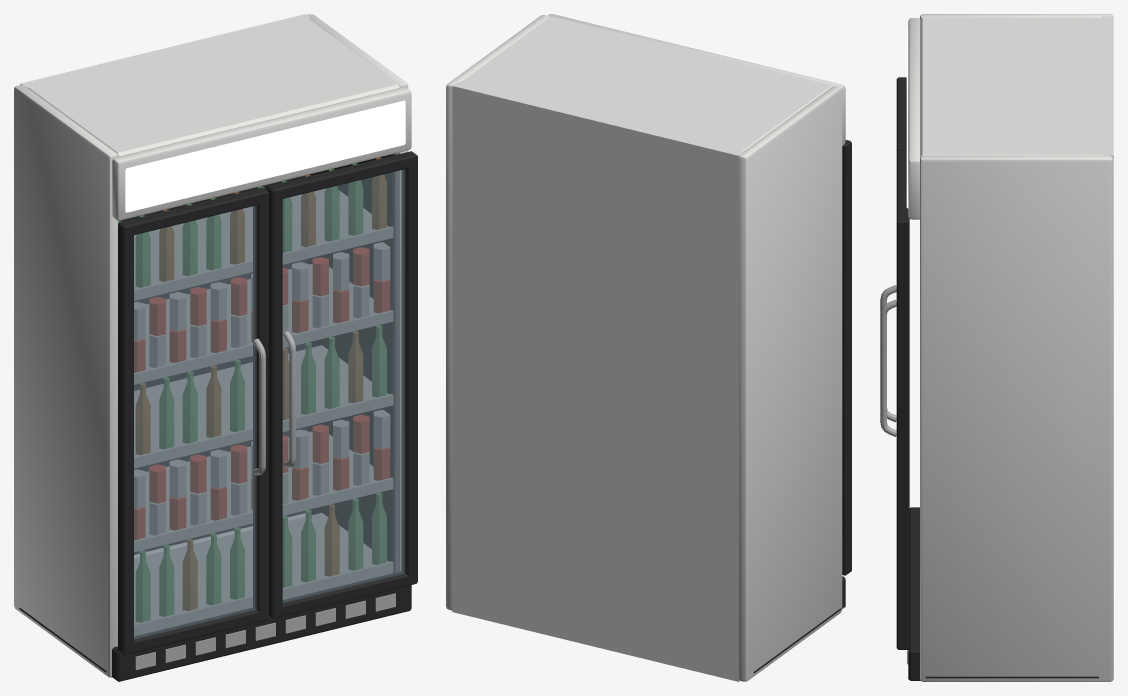
File: ShopFridge.fbx
The picture shows the model from 3 angles, left to right: view 1: azimuth 30°, elevation 25°; view 2: azimuth 150°, elevation 25°; view 3: azimuth 270°, elevation 25°; orthographic projection.
Parts seen in each view (by area): view 1: ShopFridge_Mesh; view 2: ShopFridge_Mesh; view 3: ShopFridge_Mesh.
Part boxes in pixels (<box>): ShopFridge_Mesh: <box>14,14,417,681</box>; ShopFridge_Mesh: <box>446,14,851,681</box>; ShopFridge_Mesh: <box>880,14,1113,681</box>.
Bounding box in the file's own units: 1.21 × 2 × 0.8064.
